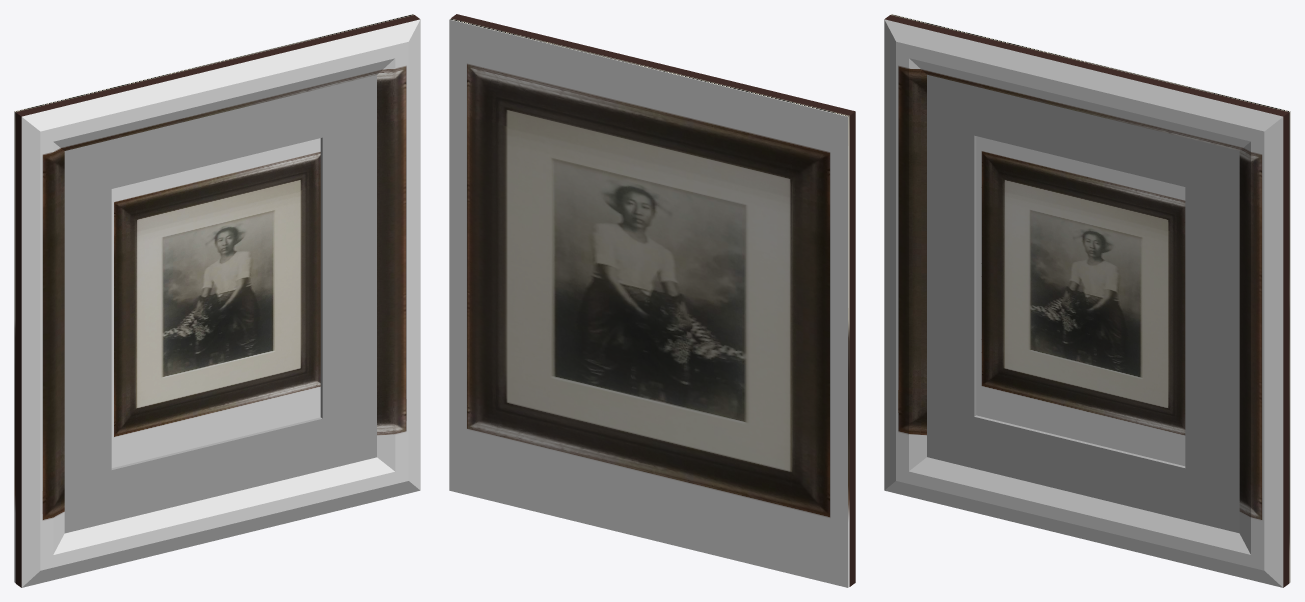
The model's file is Picture.glb.
3 renders of one model, left to right at view 1: azimuth 30°, elevation 25°; view 2: azimuth 150°, elevation 25°; view 3: azimuth 330°, elevation 25°, orthographic.
Visible parts, largest first — view 1: Shape03, Shape02, Plane01, Shape04; view 2: Shape04, Shape03; view 3: Shape03, Shape02, Plane01, Shape04.
Part boxes in pixels (bbox=[...]): Shape03: bbox=[15, 15, 420, 587]; Shape02: bbox=[64, 75, 376, 533]; Plane01: bbox=[111, 138, 320, 467]; Shape04: bbox=[14, 14, 413, 582]; Shape04: bbox=[449, 18, 849, 587]; Shape03: bbox=[451, 14, 855, 586]; Shape03: bbox=[884, 15, 1289, 587]; Shape02: bbox=[927, 74, 1239, 533]; Plane01: bbox=[976, 136, 1185, 466]; Shape04: bbox=[891, 14, 1290, 582].
Bounding box in the file's own units: 14.03 × 15.83 × 0.6672.
Materials: 5 (3 with a texture image).
